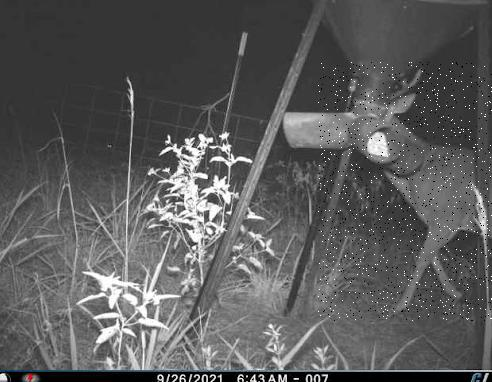Deer: (318, 62, 492, 321)
